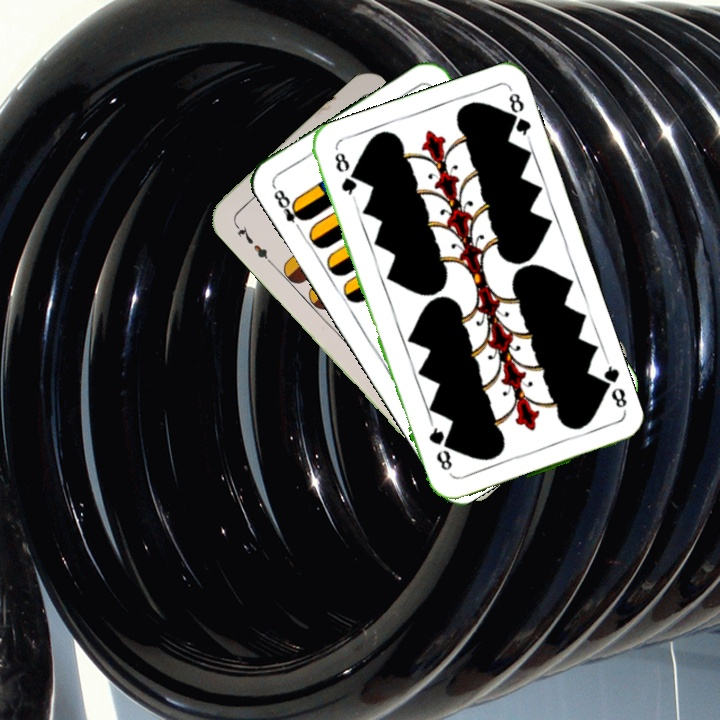E7: (230, 219, 275, 267)
E8: (269, 185, 310, 235)
G8: (593, 362, 630, 416), (330, 148, 360, 203)
